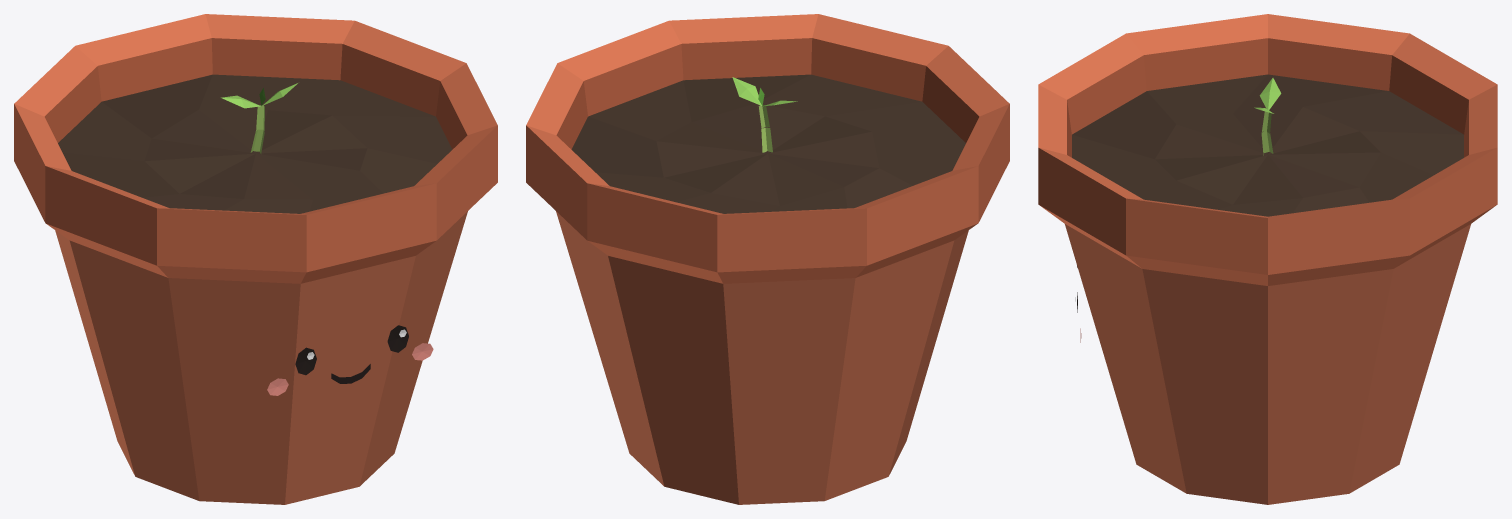
File: carrot_1.glb
The picture shows the model from 3 angles, left to right: view 1: azimuth 30°, elevation 25°; view 2: azimuth 150°, elevation 25°; view 3: azimuth 270°, elevation 25°; orthographic projection.
Visible parts, largest first — view 1: Carrot_Stage1_Sprout; view 2: Carrot_Stage1_Sprout; view 3: Carrot_Stage1_Sprout.
Boxes of the visible parts, box(x1,y1,x2,y2) form: Carrot_Stage1_Sprout: box(14, 14, 497, 504); Carrot_Stage1_Sprout: box(526, 14, 1009, 504); Carrot_Stage1_Sprout: box(1038, 14, 1497, 504).
Bounding box in the file's own units: 1.92 × 1.56 × 1.83.
